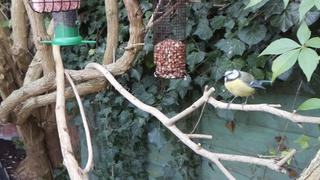blue tit: (222, 68, 272, 110)
